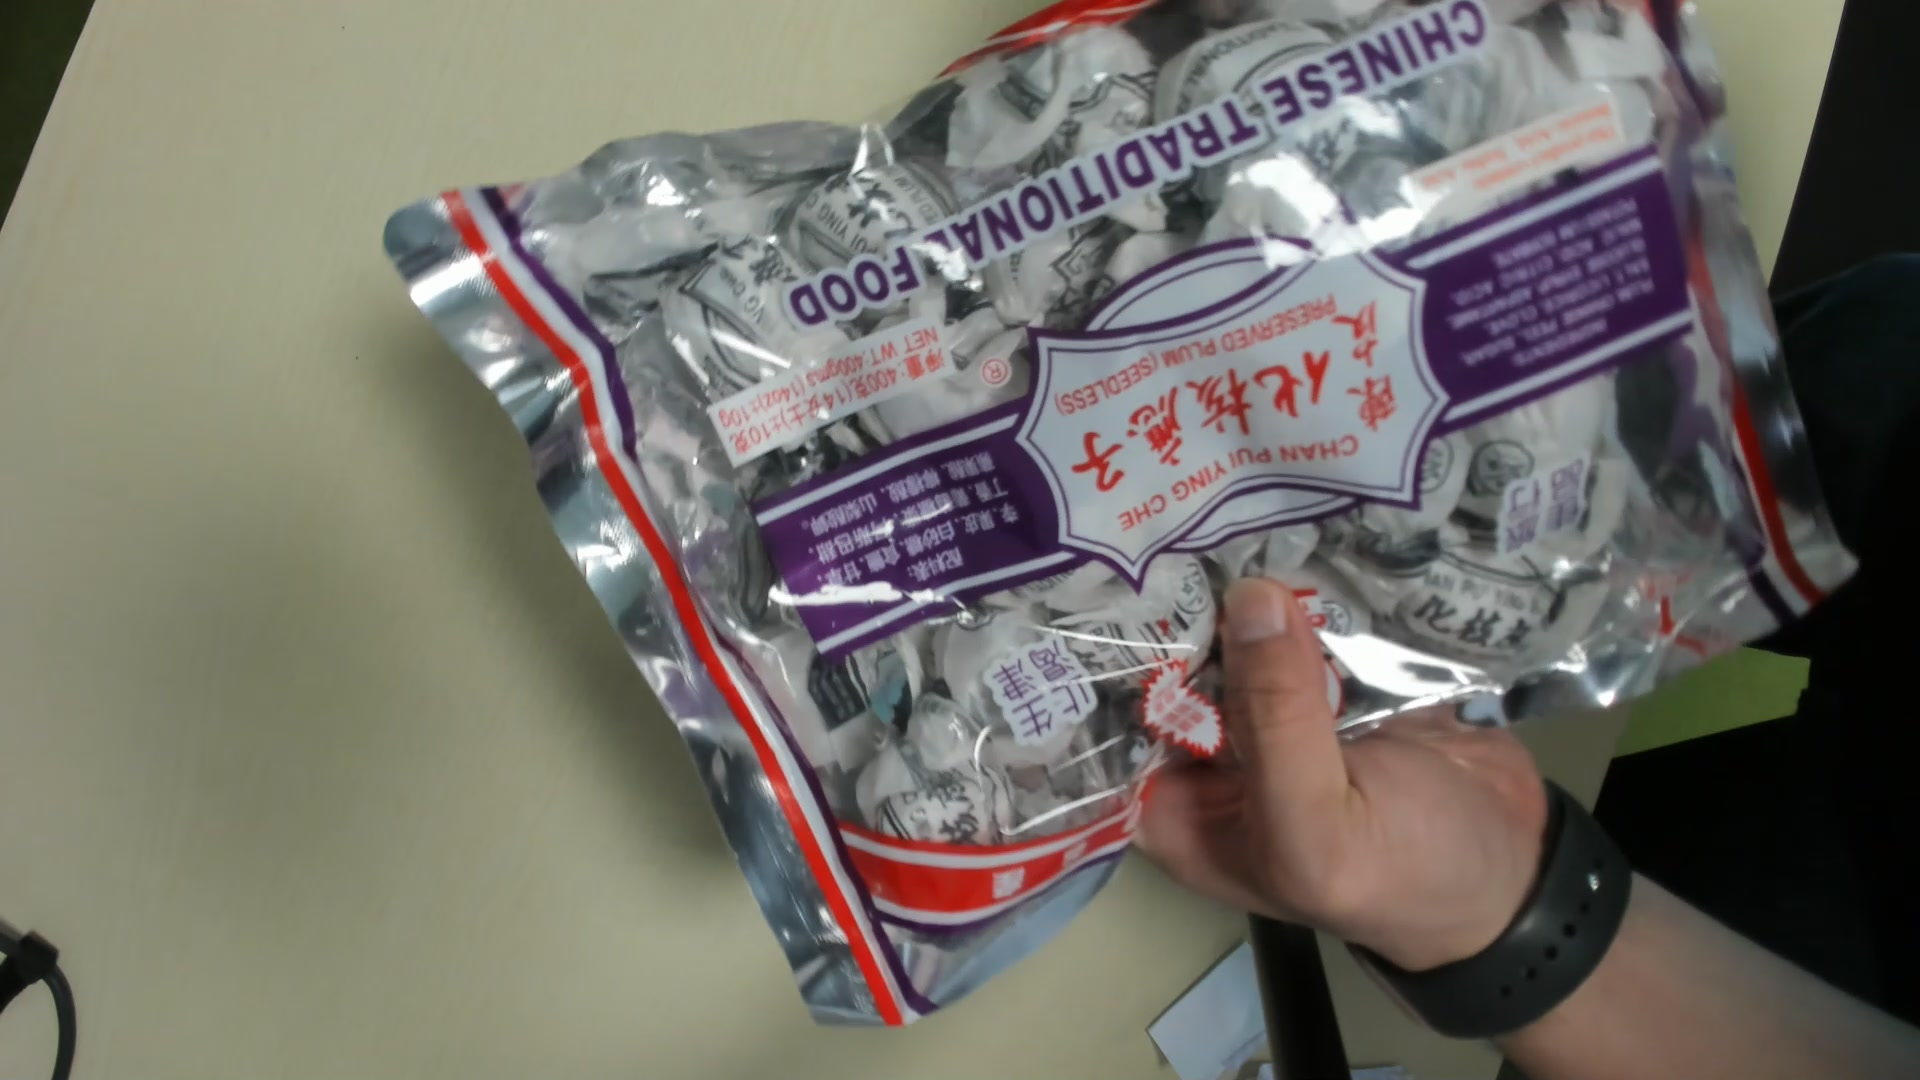SweetsChocolatesOthers_400-499g_NonHalal_Nonhealthy: (375, 9, 1886, 1025)
